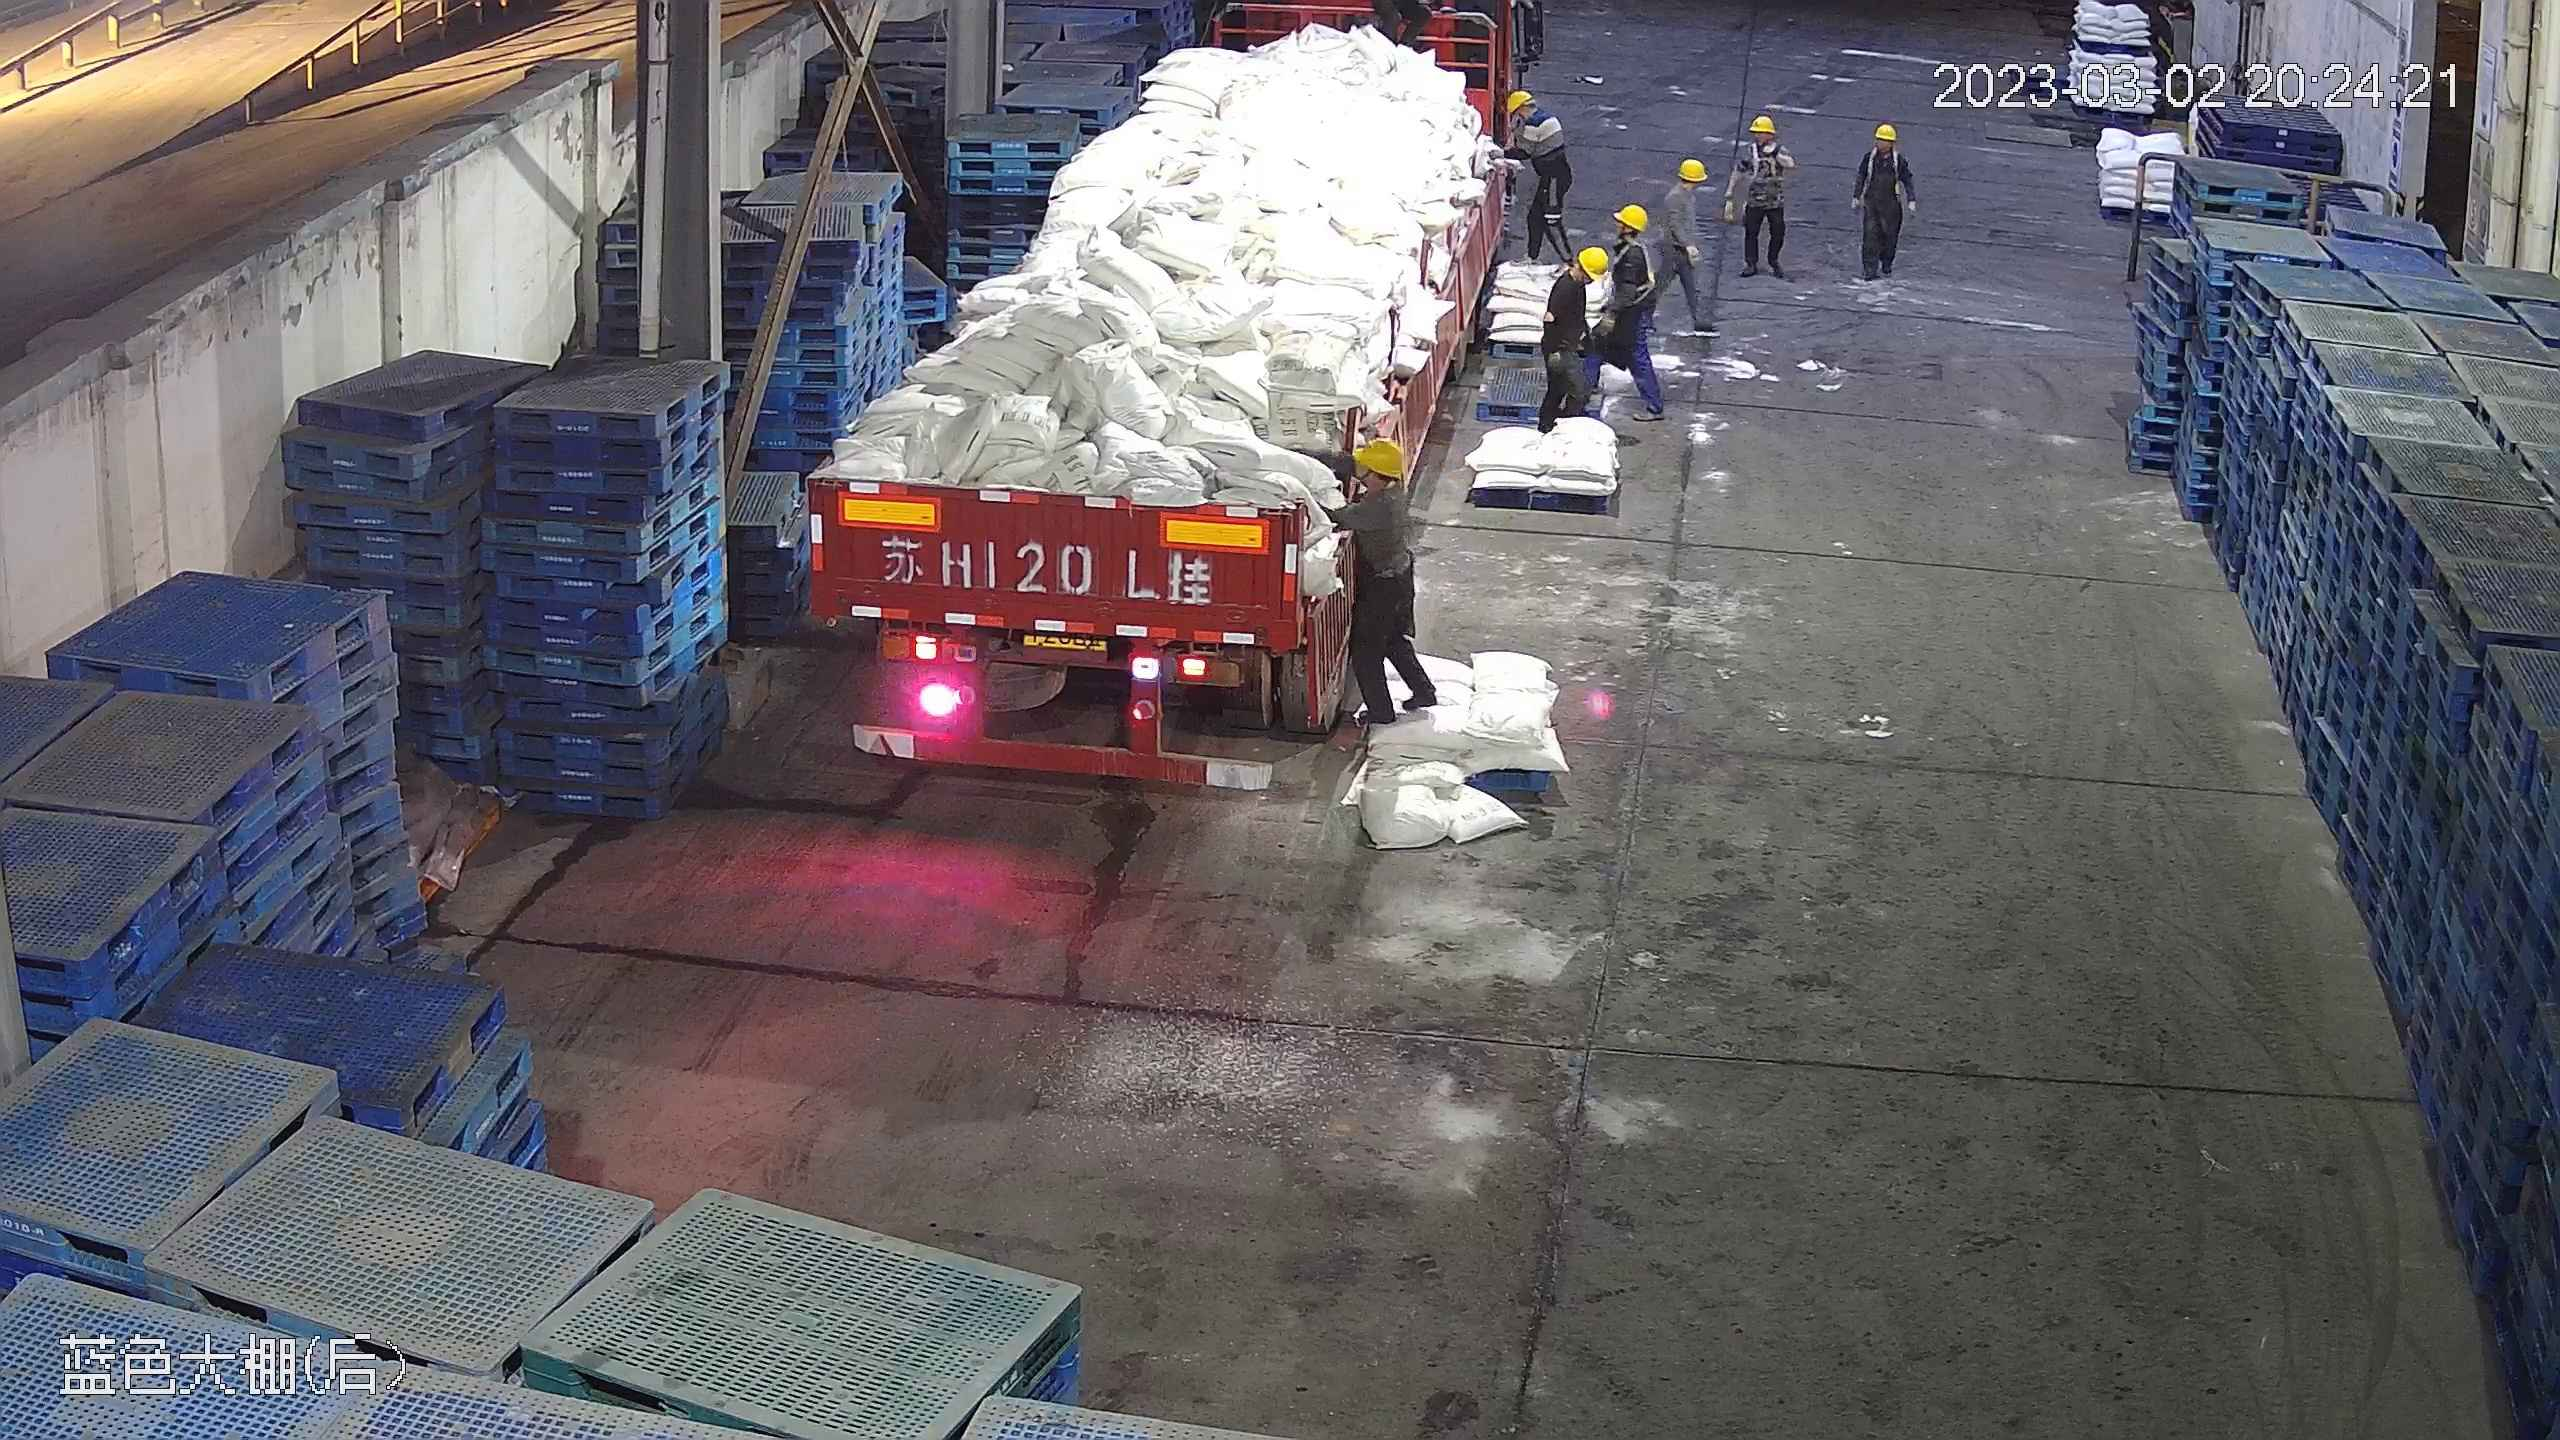belt: (1610, 231, 1660, 307), (1744, 144, 1782, 184), (1863, 147, 1906, 178)
head: (1336, 433, 1418, 540), (1546, 245, 1612, 310), (1620, 193, 1674, 267), (1501, 91, 1563, 150), (1737, 113, 1794, 170), (1668, 155, 1715, 216), (1859, 122, 1908, 174)
helmet: (1740, 113, 1790, 167), (1350, 432, 1406, 477), (1579, 241, 1612, 285), (1614, 202, 1648, 230), (1868, 122, 1901, 149), (1678, 156, 1710, 183), (1750, 113, 1780, 133), (1502, 88, 1528, 111)
people: (1330, 428, 1441, 729), (1532, 240, 1620, 433), (1593, 209, 1666, 416), (1619, 179, 1696, 357), (1502, 88, 1575, 268), (1731, 109, 1799, 280), (1655, 170, 1714, 340), (1855, 117, 1916, 278)
truck: (792, 7, 1523, 788)
